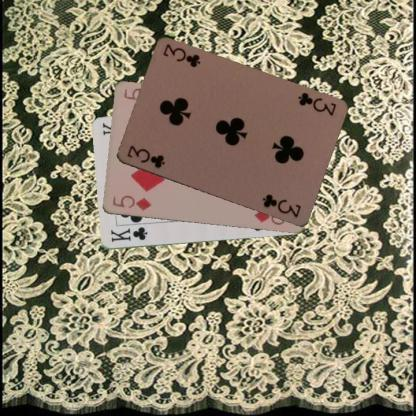3c: (296, 90, 338, 118), (124, 143, 166, 170)
5d: (110, 193, 152, 212)
Kc: (108, 225, 149, 243)
